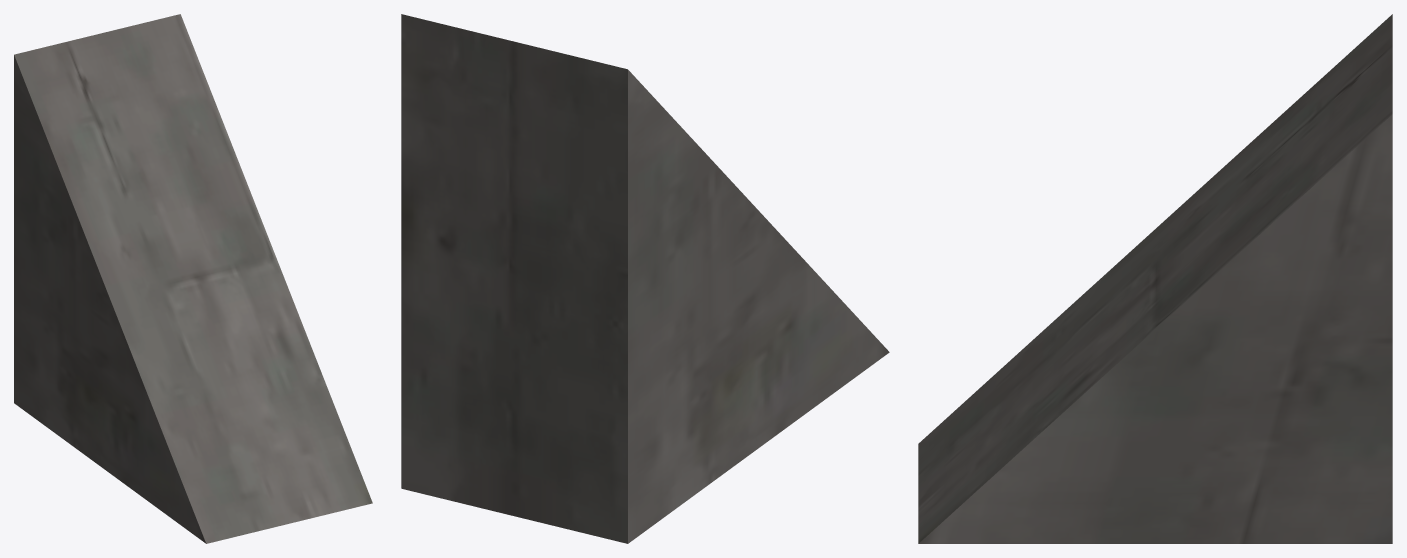
The model's file is upward_angled_50cm_endCap_1.glb.
3 views of the same model, side by side, from view 1: azimuth 30°, elevation 25°; view 2: azimuth 150°, elevation 25°; view 3: azimuth 270°, elevation 25° (orthographic). The views are drawn at different scales.
Visible parts, largest first — view 1: upward.angled.50cm.endCap.1; view 2: upward.angled.50cm.endCap.1; view 3: upward.angled.50cm.endCap.1.
Boxes of the visible parts, bbox=[...] form: upward.angled.50cm.endCap.1: bbox=[14, 14, 372, 543]; upward.angled.50cm.endCap.1: bbox=[401, 14, 889, 543]; upward.angled.50cm.endCap.1: bbox=[918, 14, 1392, 543].
Bounding box in the file's own units: 0.25 × 0.5 × 0.5.
Materials: 1 (1 with a texture image).
